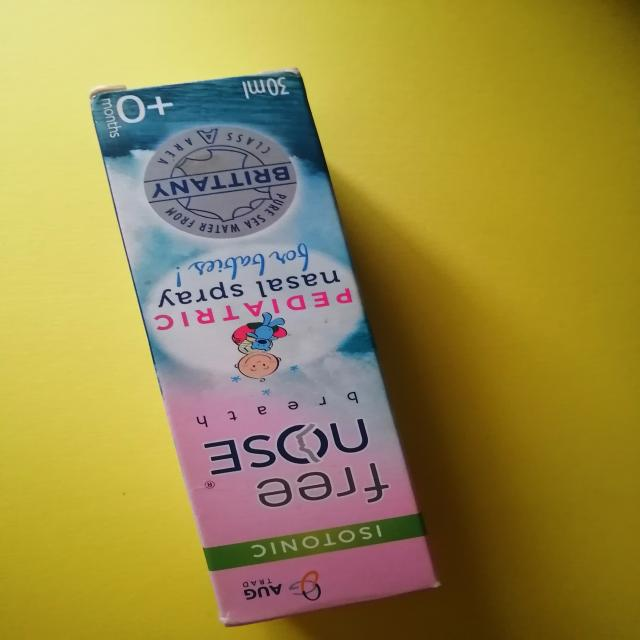Free Nose: (93, 65, 464, 628)
